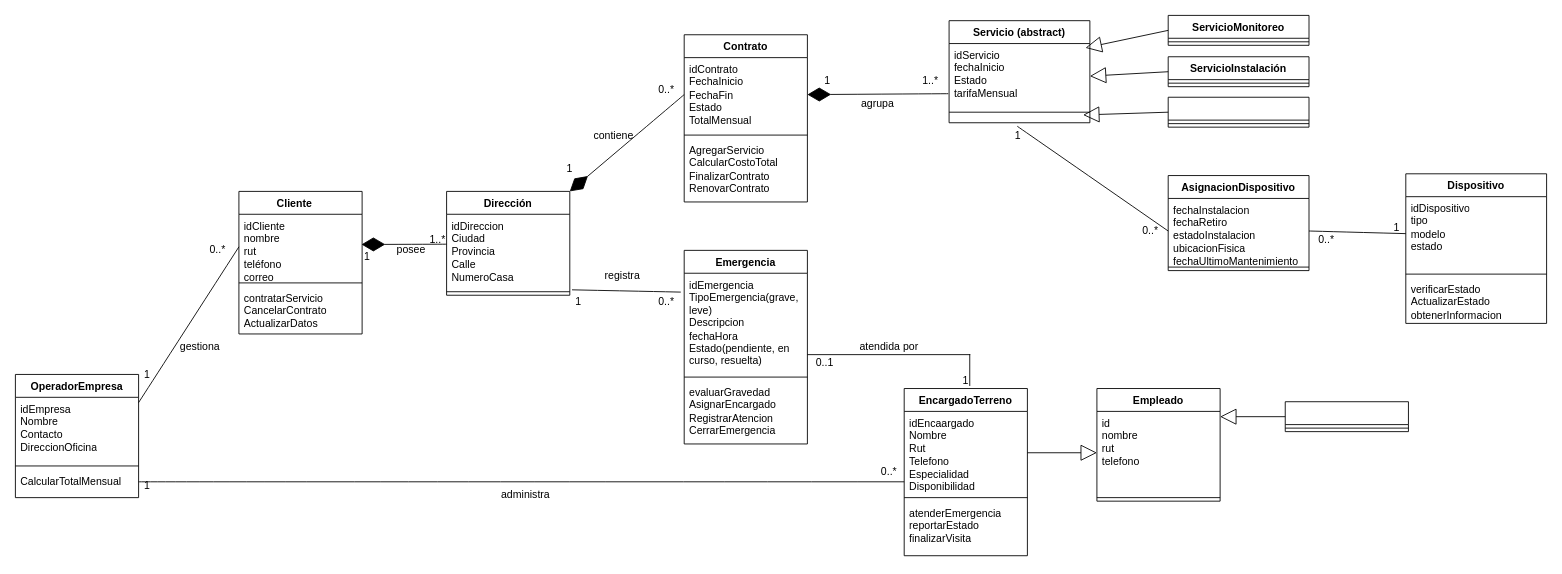
Image size: 1562x574. Some labels were removed from this diagram. Each missing label, with the centre of its shape:
Operador: (x=1346, y=416)
ServicioMantenimiento: (x=1238, y=111)
